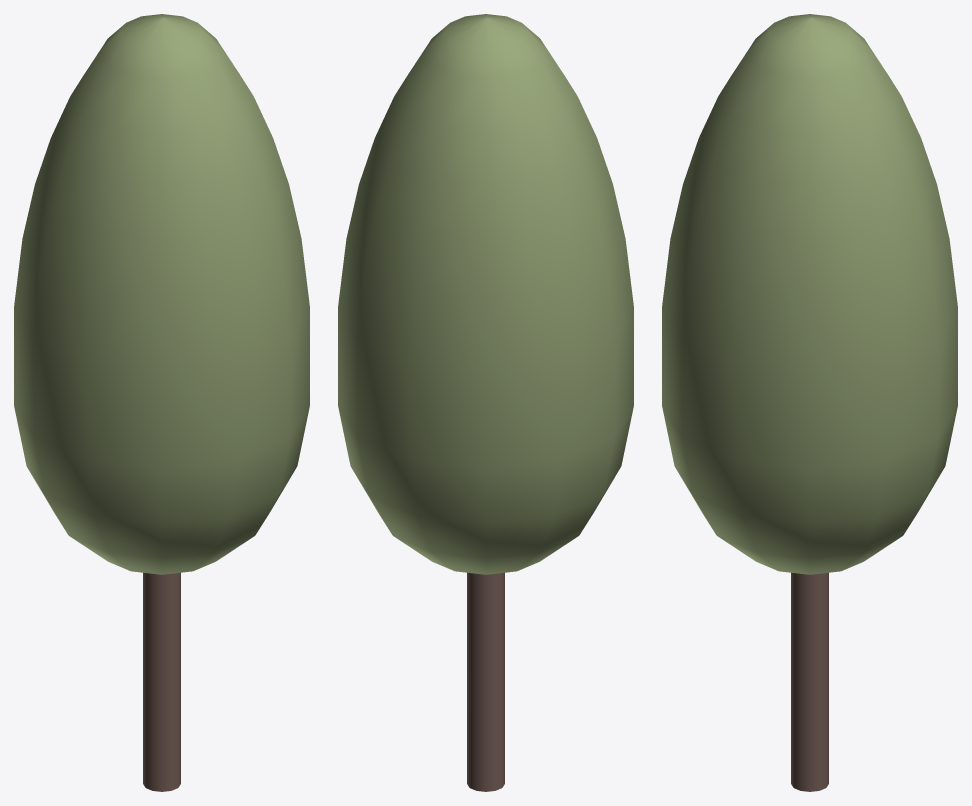
The model's file is American_Chestnut_Analytical_0.obj.
The picture shows the model from 3 angles, left to right: view 1: azimuth 30°, elevation 25°; view 2: azimuth 150°, elevation 25°; view 3: azimuth 270°, elevation 25°; orthographic projection.
Parts seen in each view (by area): view 1: AnalyticalCrown, AnalyticalTrunk; view 2: AnalyticalCrown, AnalyticalTrunk; view 3: AnalyticalCrown, AnalyticalTrunk.
Part boxes in pixels (<box>): AnalyticalCrown: <box>14,14,309,574</box>; AnalyticalTrunk: <box>143,572,180,791</box>; AnalyticalCrown: <box>338,14,633,574</box>; AnalyticalTrunk: <box>467,572,504,791</box>; AnalyticalCrown: <box>662,14,957,574</box>; AnalyticalTrunk: <box>791,572,828,791</box>.
Size of the model in its own units: 8.76 by 25 by 8.76.
